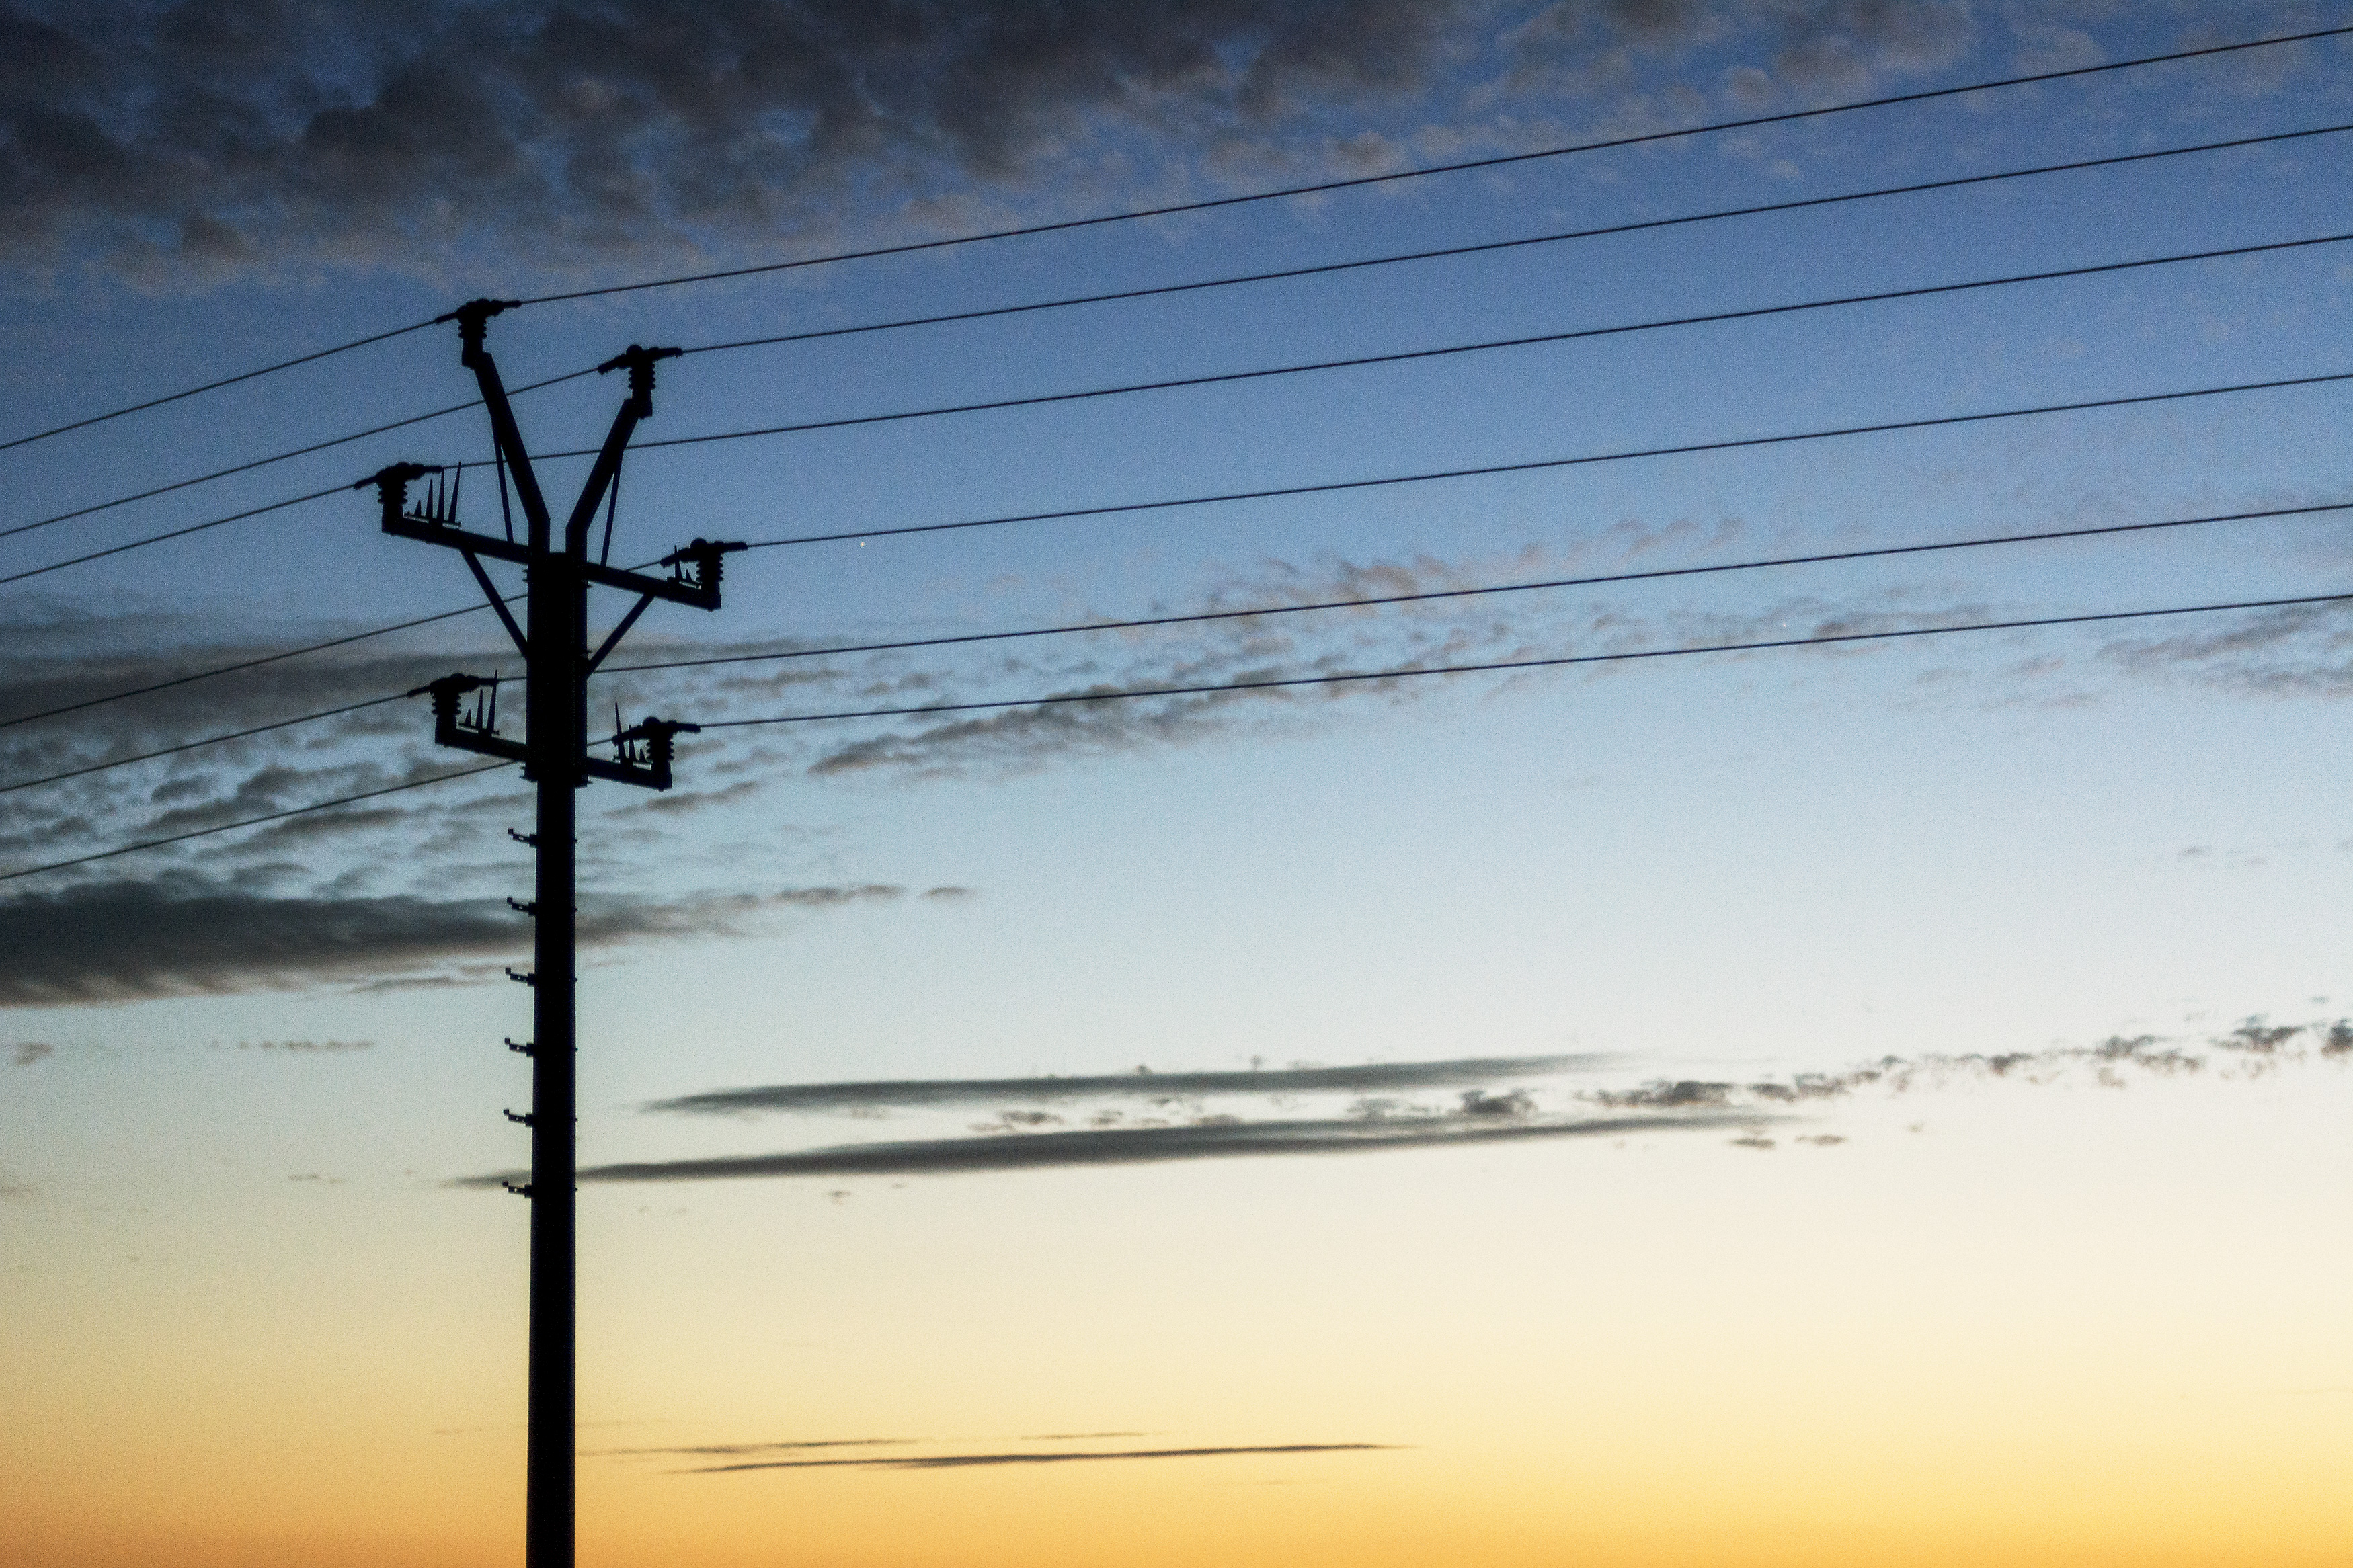utility_pole: (341, 254, 765, 964)
